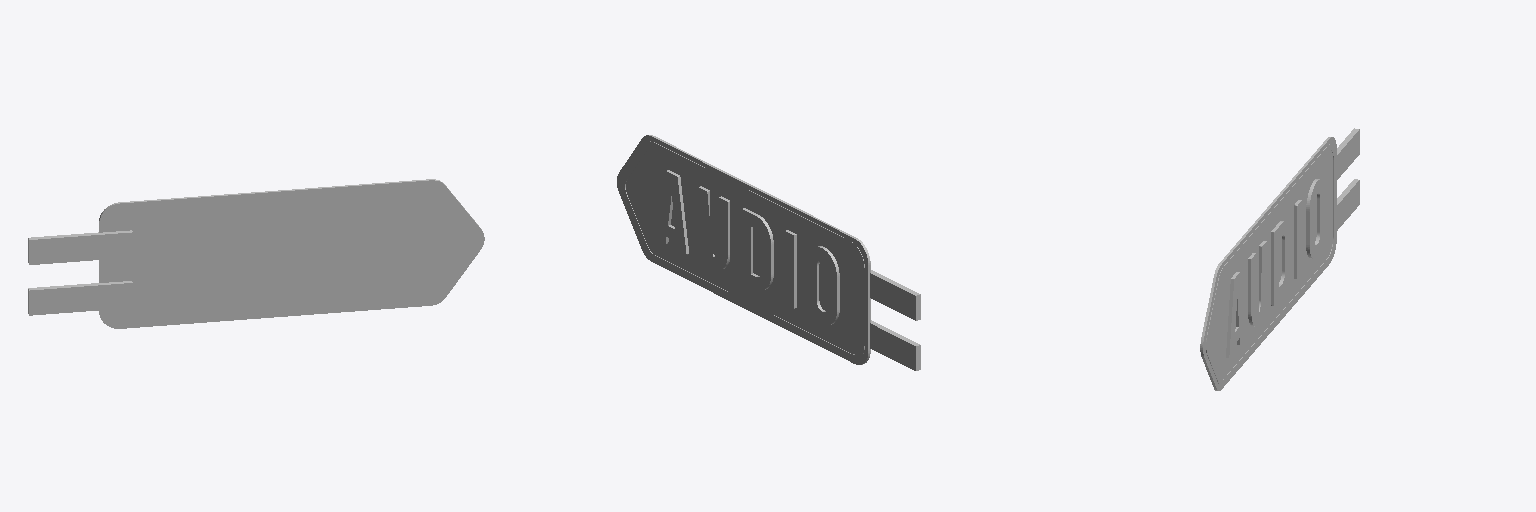
The model's file is sign.obj.
The picture shows the model from 3 angles: view 1: azimuth 30°, elevation 25°; view 2: azimuth 150°, elevation 25°; view 3: azimuth 270°, elevation 25°; orthographic projection.
Parts seen in each view (by area): view 1: b, a; view 2: b, a; view 3: b, a.
Part boxes in pixels (x1,y1,x2,y2): b: (99,179,484,328); a: (28,230,132,315); b: (617,135,870,364); a: (622,141,920,370); b: (1200,137,1336,390); a: (1206,128,1359,385).
Size of the model in its own units: 363 by 115 by 132.